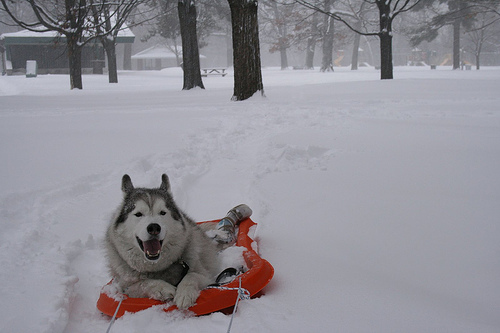dog: (95, 170, 222, 310)
